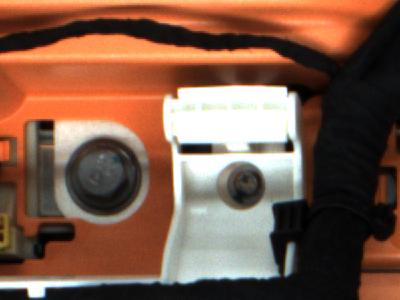nut_b: (64, 137, 147, 214)
